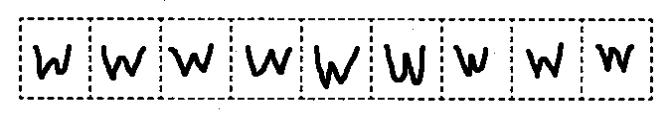W: (376, 38, 432, 89), (311, 40, 362, 91), (516, 36, 570, 84), (28, 37, 75, 84), (167, 40, 221, 80), (97, 41, 148, 83), (448, 37, 494, 83), (241, 42, 296, 78), (591, 40, 638, 77)
